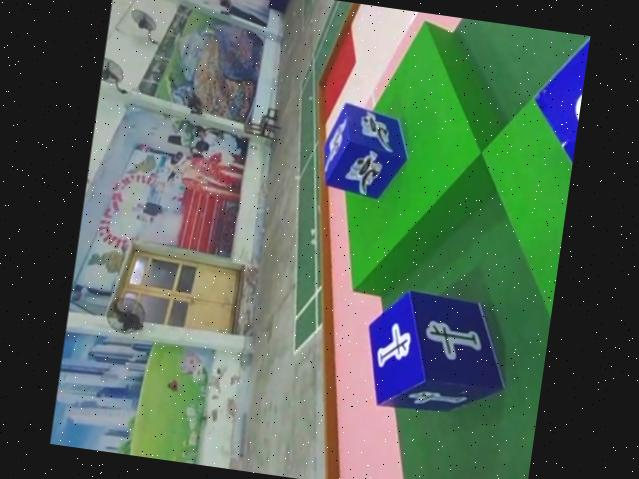R1 Blue: (319, 96, 416, 201)
R2 Real Blue: (360, 285, 520, 422)
